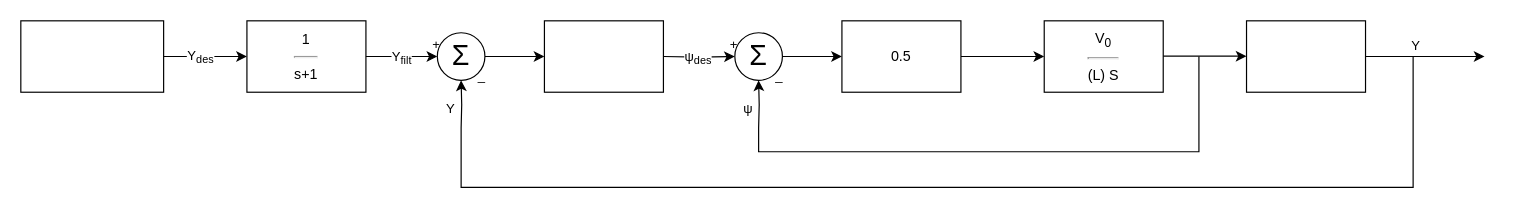
Image size: 1515x209. Some labels were removed from this diagram. Each missing label, with the box of its shape:
0.144 (s+1) s: (543, 20, 663, 92)
Path Planner: (20, 20, 164, 92)
V 0 S: (1245, 20, 1366, 92)
